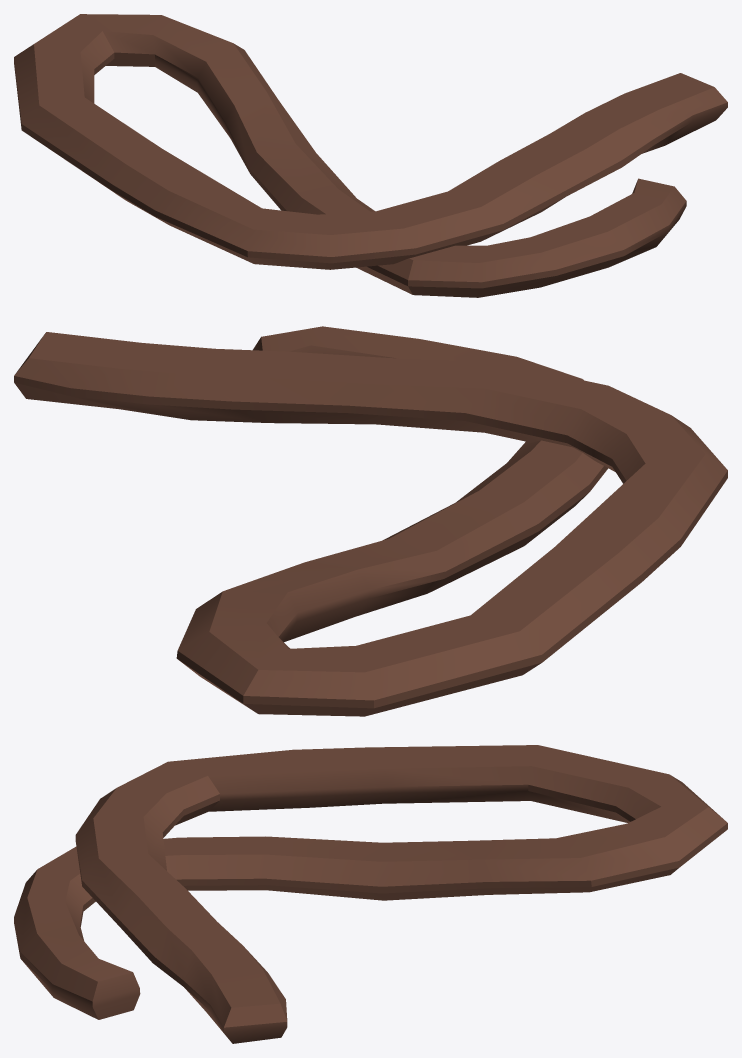
The model's file is clinicpuzzle5.fbx.
The picture shows the model from 3 angles, top to bottom: view 1: azimuth 30°, elevation 25°; view 2: azimuth 150°, elevation 25°; view 3: azimuth 270°, elevation 25°; orthographic projection. The views are drawn at different scales.
Visible parts, largest first — view 1: clinic puzzle5; view 2: clinic puzzle5; view 3: clinic puzzle5.
Part boxes in pixels (x1,y1,x2,y2): clinic puzzle5: (14,14,727,297); clinic puzzle5: (14,326,727,716); clinic puzzle5: (14,745,727,1043).
Bounding box in the file's own units: 166 × 17.6 × 181.
